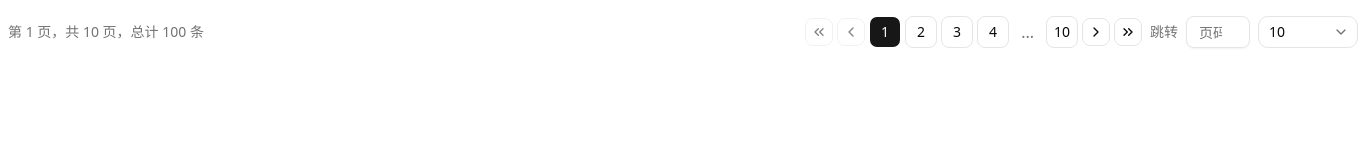
Test: DataTablePagination › changes page size
This screenshot has width=1366, height=160.
// Find the select trigger
Click the dropdown at (1308, 32), box [1258,16,1358,48]
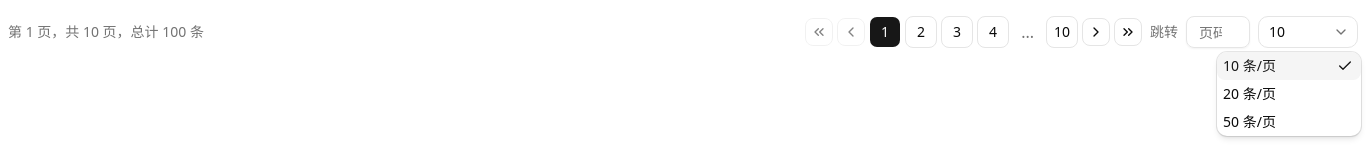
Expected: the text "10 条/页" is shown, [1223,56,1276,75]
Expected: the text "20 条/页" is shown, [1223,84,1276,103]
Expected: the text "50 条/页" is shown, [1223,112,1276,131]
